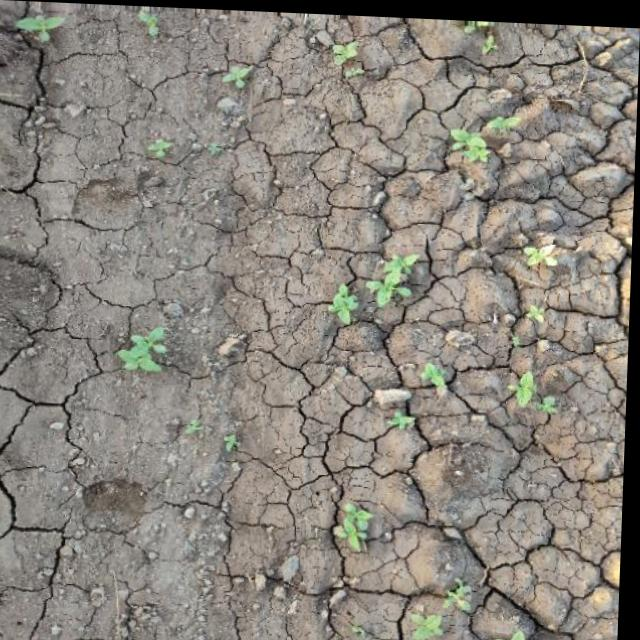crop: (408, 565, 484, 638), (440, 101, 522, 163), (517, 221, 562, 332), (509, 356, 575, 424), (365, 238, 425, 308), (115, 319, 180, 378), (337, 490, 383, 557), (6, 4, 72, 50), (214, 46, 266, 97), (323, 278, 365, 326)
